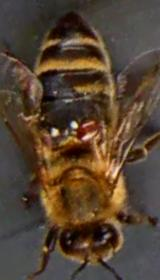varroa_mite: (70, 113, 108, 145)
